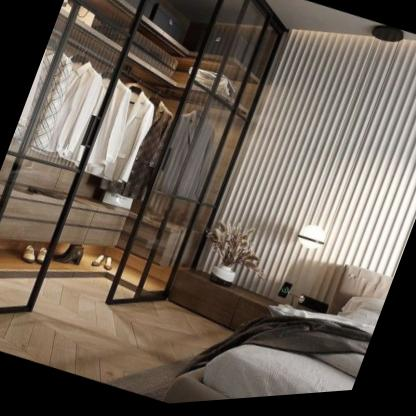Bed: (160, 271, 393, 406)
Wall Panel: (197, 33, 416, 303)
